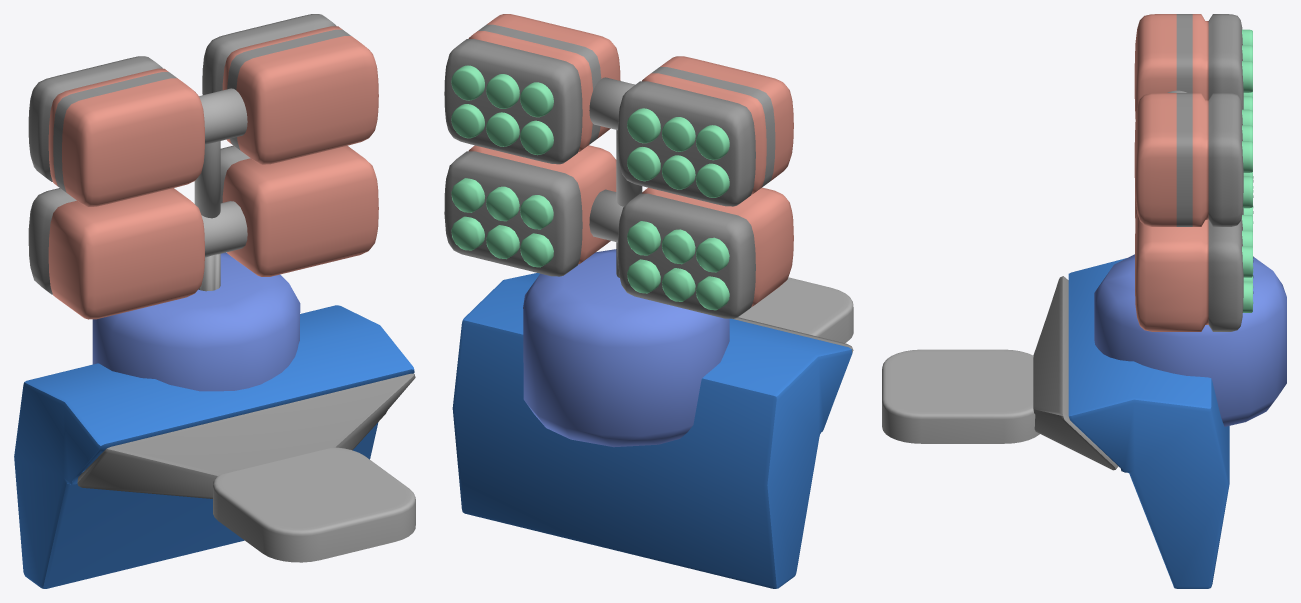
The model's file is rocket_level4.fbx.
3 views of the same model, side by side, from view 1: azimuth 30°, elevation 25°; view 2: azimuth 150°, elevation 25°; view 3: azimuth 270°, elevation 25° (orthographic). The views are drawn at different scales.
Visible parts, largest first — view 1: WeaponBase, rocket_level4, rocket_level2, rocket_bottom, Cylinder.003; view 2: WeaponBase, rocket_level4, rocket_level2, rocket_bottom, Cylinder.003; view 3: WeaponBase, rocket_level4, rocket_bottom, rocket_level2.
Boxes of the visible parts, bbox=[...] form: WeaponBase: bbox=[14, 305, 415, 588]; rocket_level4: bbox=[28, 14, 378, 206]; rocket_level2: bbox=[28, 145, 378, 319]; rocket_bottom: bbox=[92, 252, 300, 391]; Cylinder.003: bbox=[194, 141, 220, 218]; WeaponBase: bbox=[452, 273, 853, 588]; rocket_level4: bbox=[444, 14, 793, 206]; rocket_level2: bbox=[444, 145, 793, 318]; rocket_bottom: bbox=[523, 242, 729, 447]; Cylinder.003: bbox=[616, 130, 642, 206]; WeaponBase: bbox=[882, 258, 1229, 588]; rocket_level4: bbox=[1134, 14, 1252, 226]; rocket_bottom: bbox=[1094, 254, 1286, 426]; rocket_level2: bbox=[1135, 176, 1253, 331].
Bounding box in the file's own units: 92.74 × 133 × 109.
